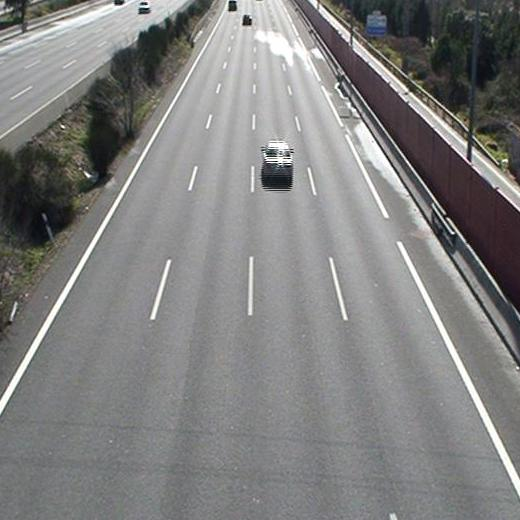car: (262, 140, 294, 183), (242, 14, 253, 26)
